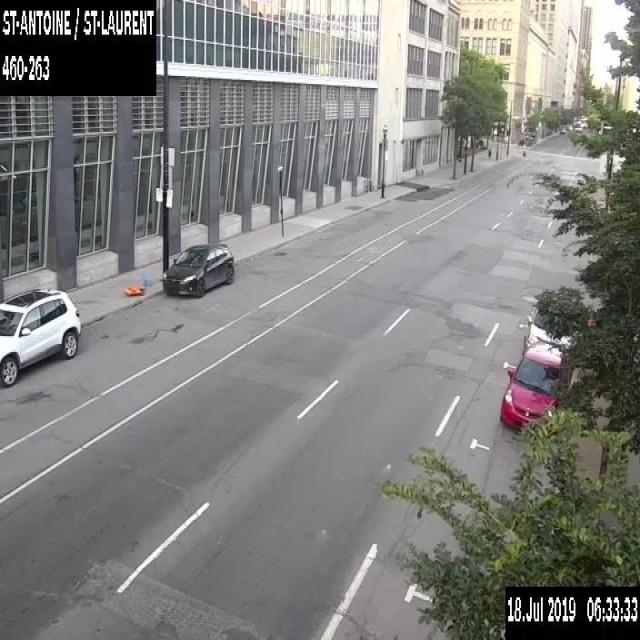construction: (124, 272, 151, 294)
pedestrian: (522, 146, 525, 157)
vehicle: (0, 283, 81, 388), (499, 340, 567, 434), (160, 240, 235, 296), (522, 298, 580, 356)
